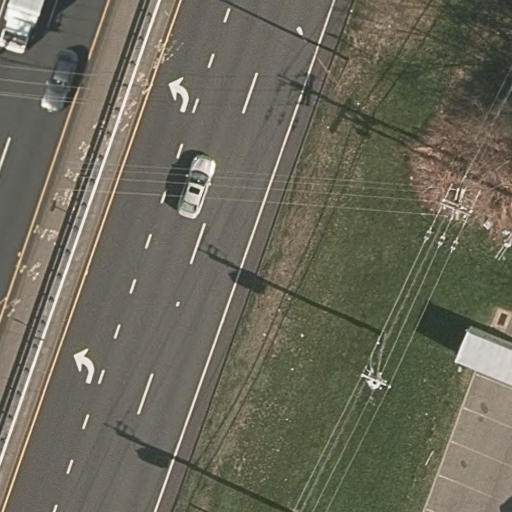DT: (419, 173, 480, 254), (352, 322, 400, 410)
